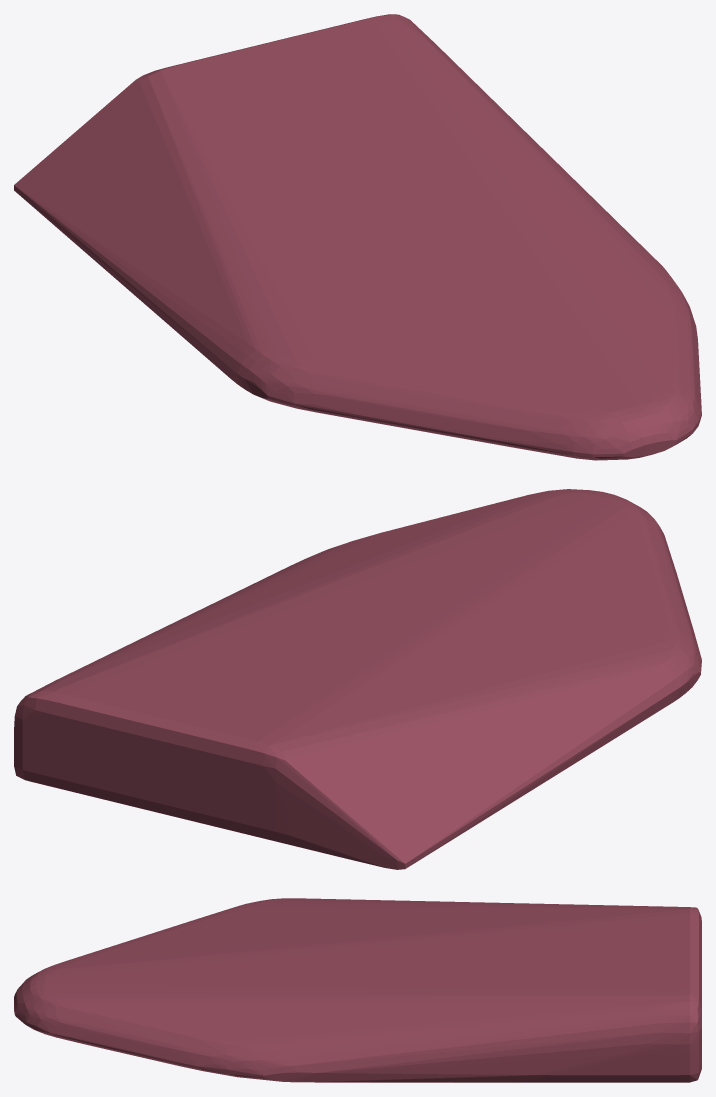
File: left_knee_link_part_13.obj
3 views of the same model, one above another, from view 1: azimuth 30°, elevation 25°; view 2: azimuth 150°, elevation 25°; view 3: azimuth 270°, elevation 25° (orthographic). The views are drawn at different scales.
Size of the model in its own units: 0.0679 by 0.0147 by 0.1167.
